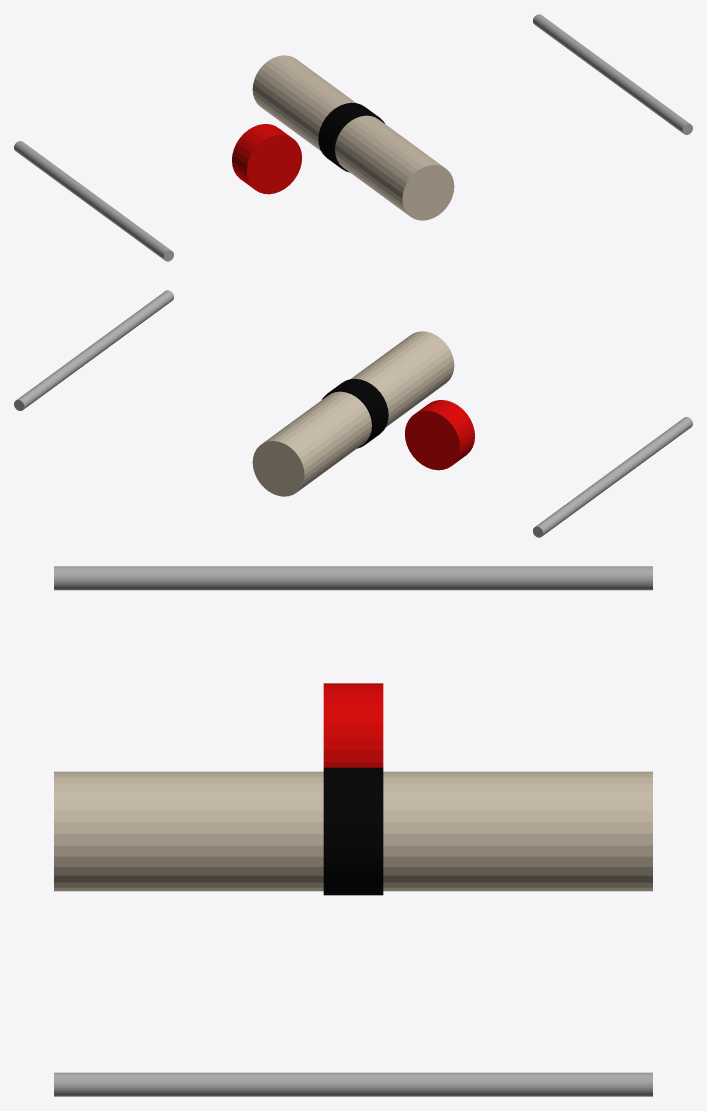
File: resistor.glb
3 views of the same model, one above another, from view 1: azimuth 30°, elevation 25°; view 2: azimuth 150°, elevation 25°; view 3: azimuth 270°, elevation 25° (orthographic). The views are drawn at different scales.
Visible parts, largest first — view 1: geometry_0, geometry_3, geometry_1, geometry_2, geometry_4; view 2: geometry_0, geometry_3, geometry_1, geometry_2, geometry_4; view 3: geometry_0, geometry_1, geometry_2, geometry_4, geometry_3.
Part boxes in pixels (box(x1,y1,x2,y2)): geometry_0: box(252, 55, 454, 220); geometry_3: box(232, 124, 301, 194); geometry_1: box(14, 141, 173, 261); geometry_2: box(533, 14, 692, 134); geometry_4: box(318, 102, 384, 172); geometry_0: box(252, 331, 454, 496); geometry_3: box(405, 400, 474, 470); geometry_1: box(533, 417, 692, 537); geometry_2: box(14, 290, 173, 410); geometry_4: box(322, 378, 388, 448); geometry_0: box(54, 771, 652, 891); geometry_1: box(54, 566, 652, 590); geometry_2: box(54, 1072, 652, 1096); geometry_4: box(323, 767, 383, 895); geometry_3: box(323, 683, 383, 767).
Size of the model in its own units: 3.06 by 0.32 by 1.5.
